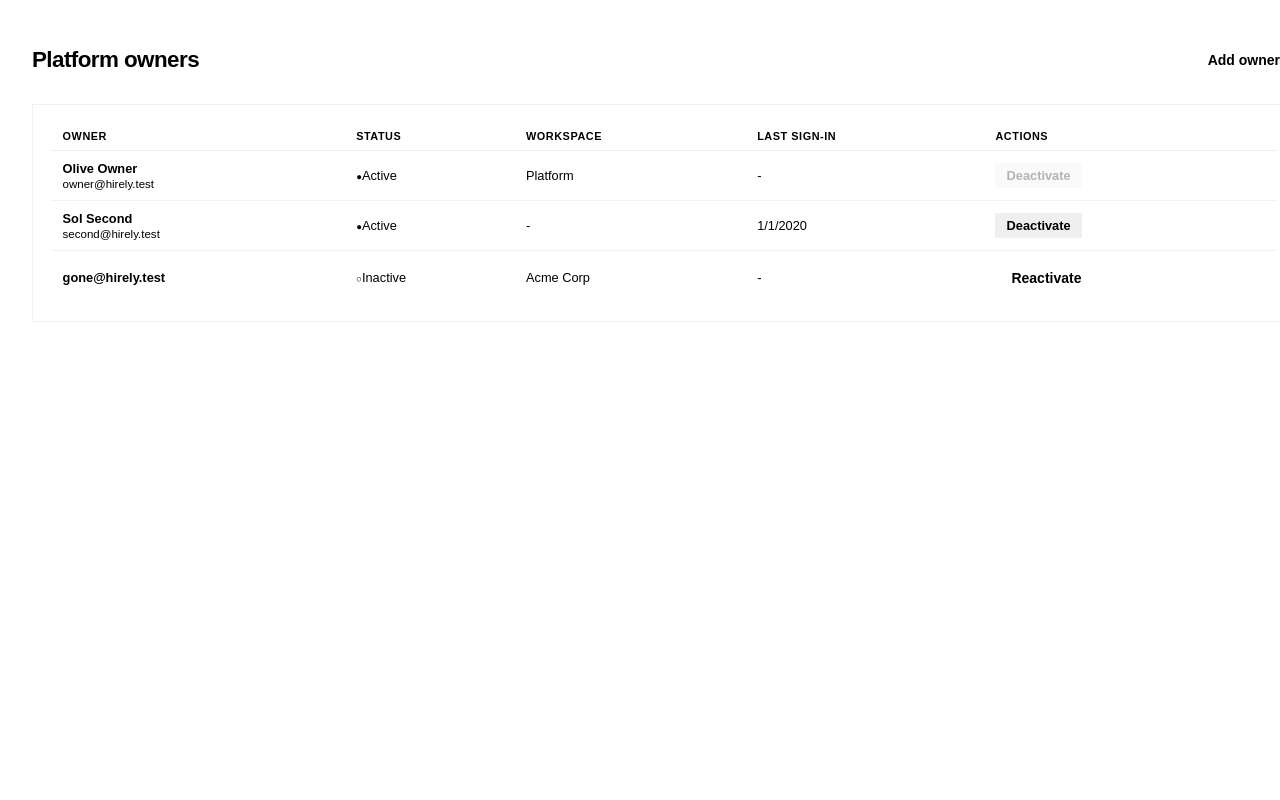
Test case: PlatformOwnersPage › does nothing when the confirmation is cancelled
Expected: the table is shown, [51, 122, 1277, 304]
Click the button "Deactivate" in the row of "Sol Second".
click(1039, 226)  # box [995, 213, 1082, 238]
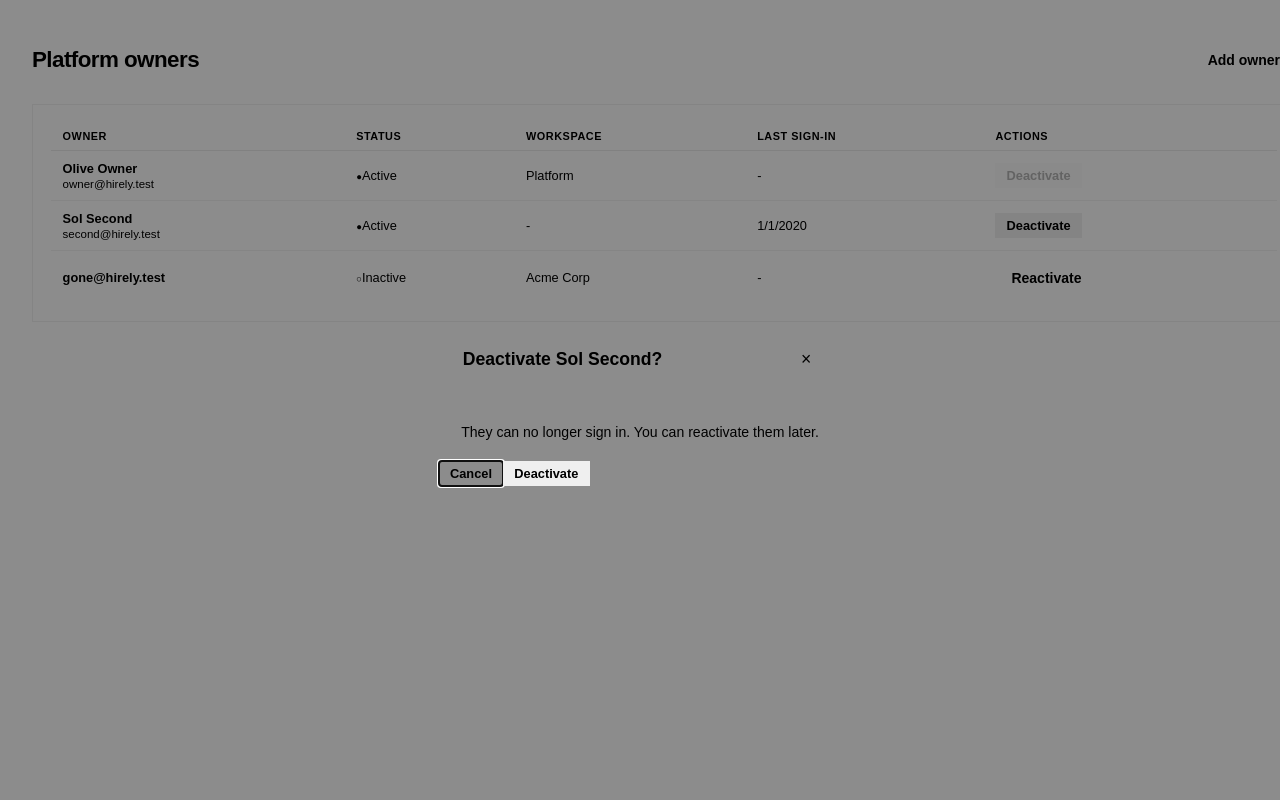
Click the button "Cancel".
click(471, 473)  # box [439, 461, 503, 486]
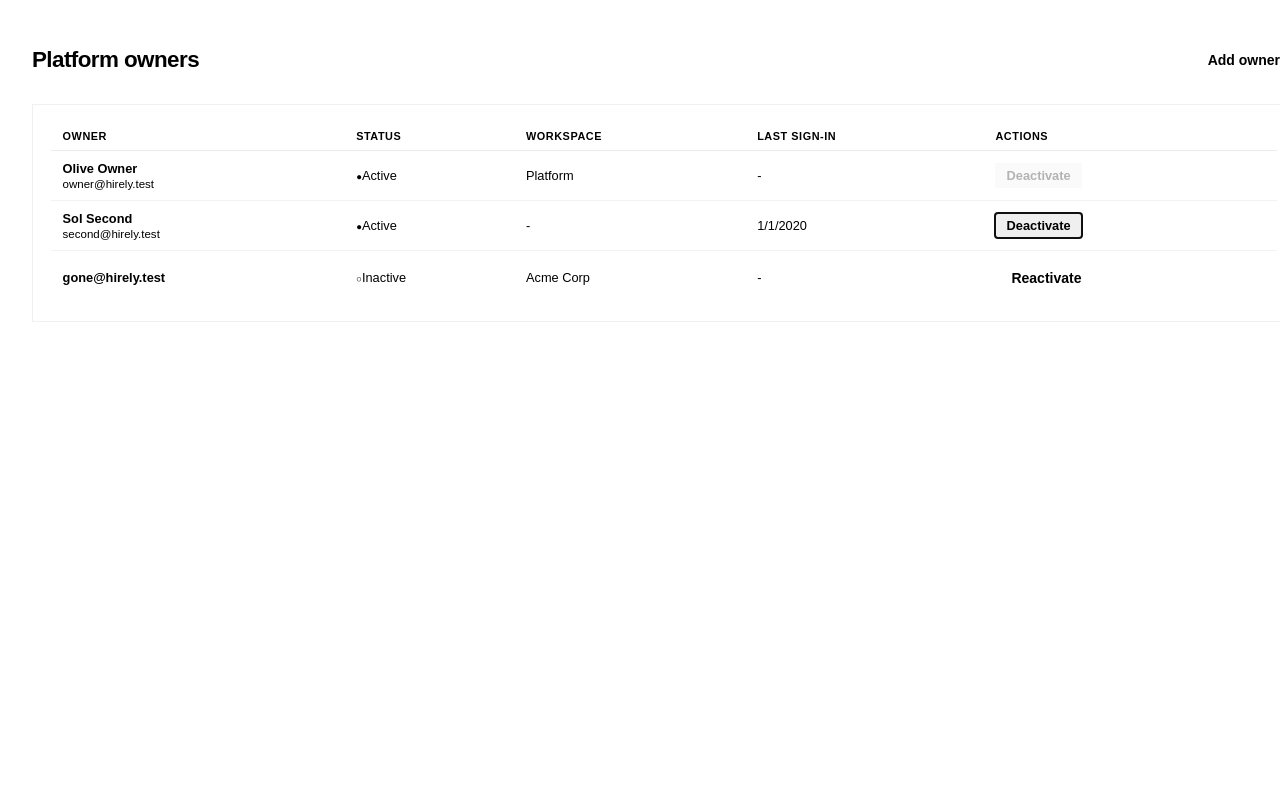
Expected: the dialog is gone
